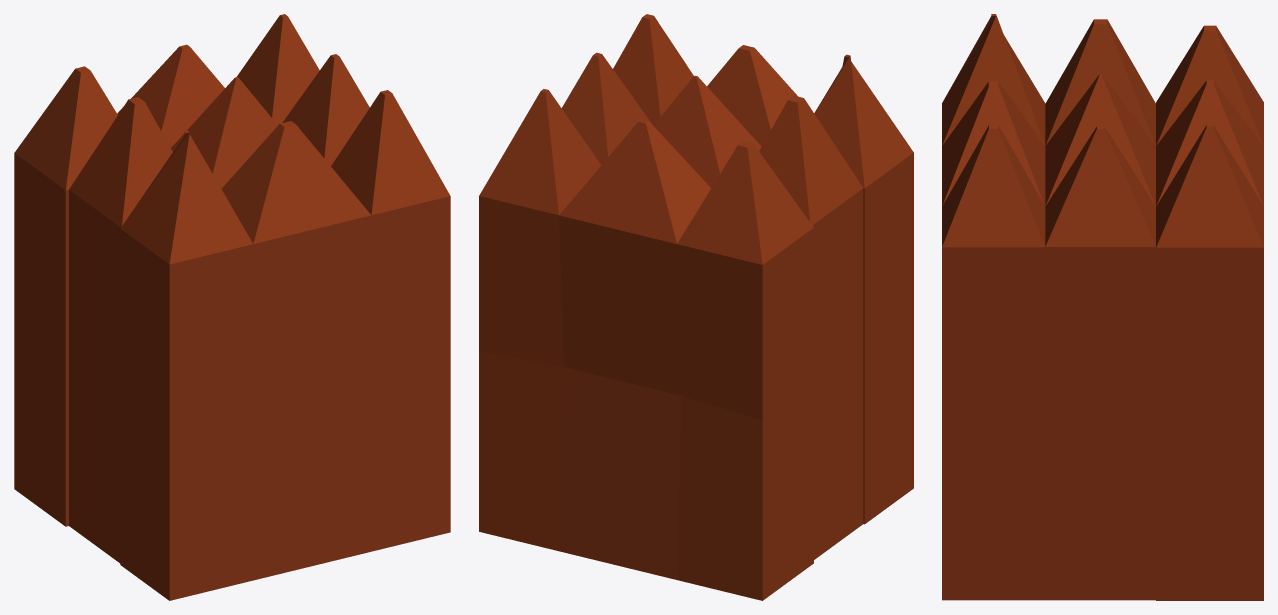
The model's file is wall.fbx.
The picture shows the model from 3 angles, left to right: view 1: azimuth 30°, elevation 25°; view 2: azimuth 150°, elevation 25°; view 3: azimuth 270°, elevation 25°; orthographic projection. The views are drawn at different scales.
Visible parts, largest first — view 1: Cube; view 2: Cube; view 3: Cube.
Part boxes in pixels (x1=…): Cube: x1=14, y1=14, x2=450, y2=600; Cube: x1=479, y1=14, x2=913, y2=600; Cube: x1=942, y1=14, x2=1263, y2=600.
Bounding box in the file's own units: 177 × 262 × 165.
